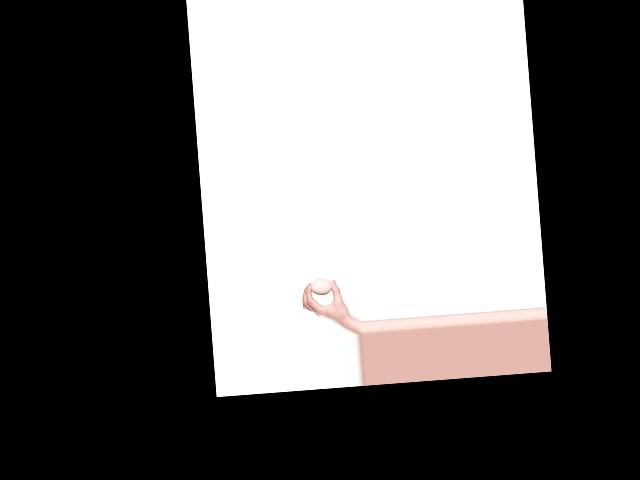egg: (310, 278, 333, 296)
